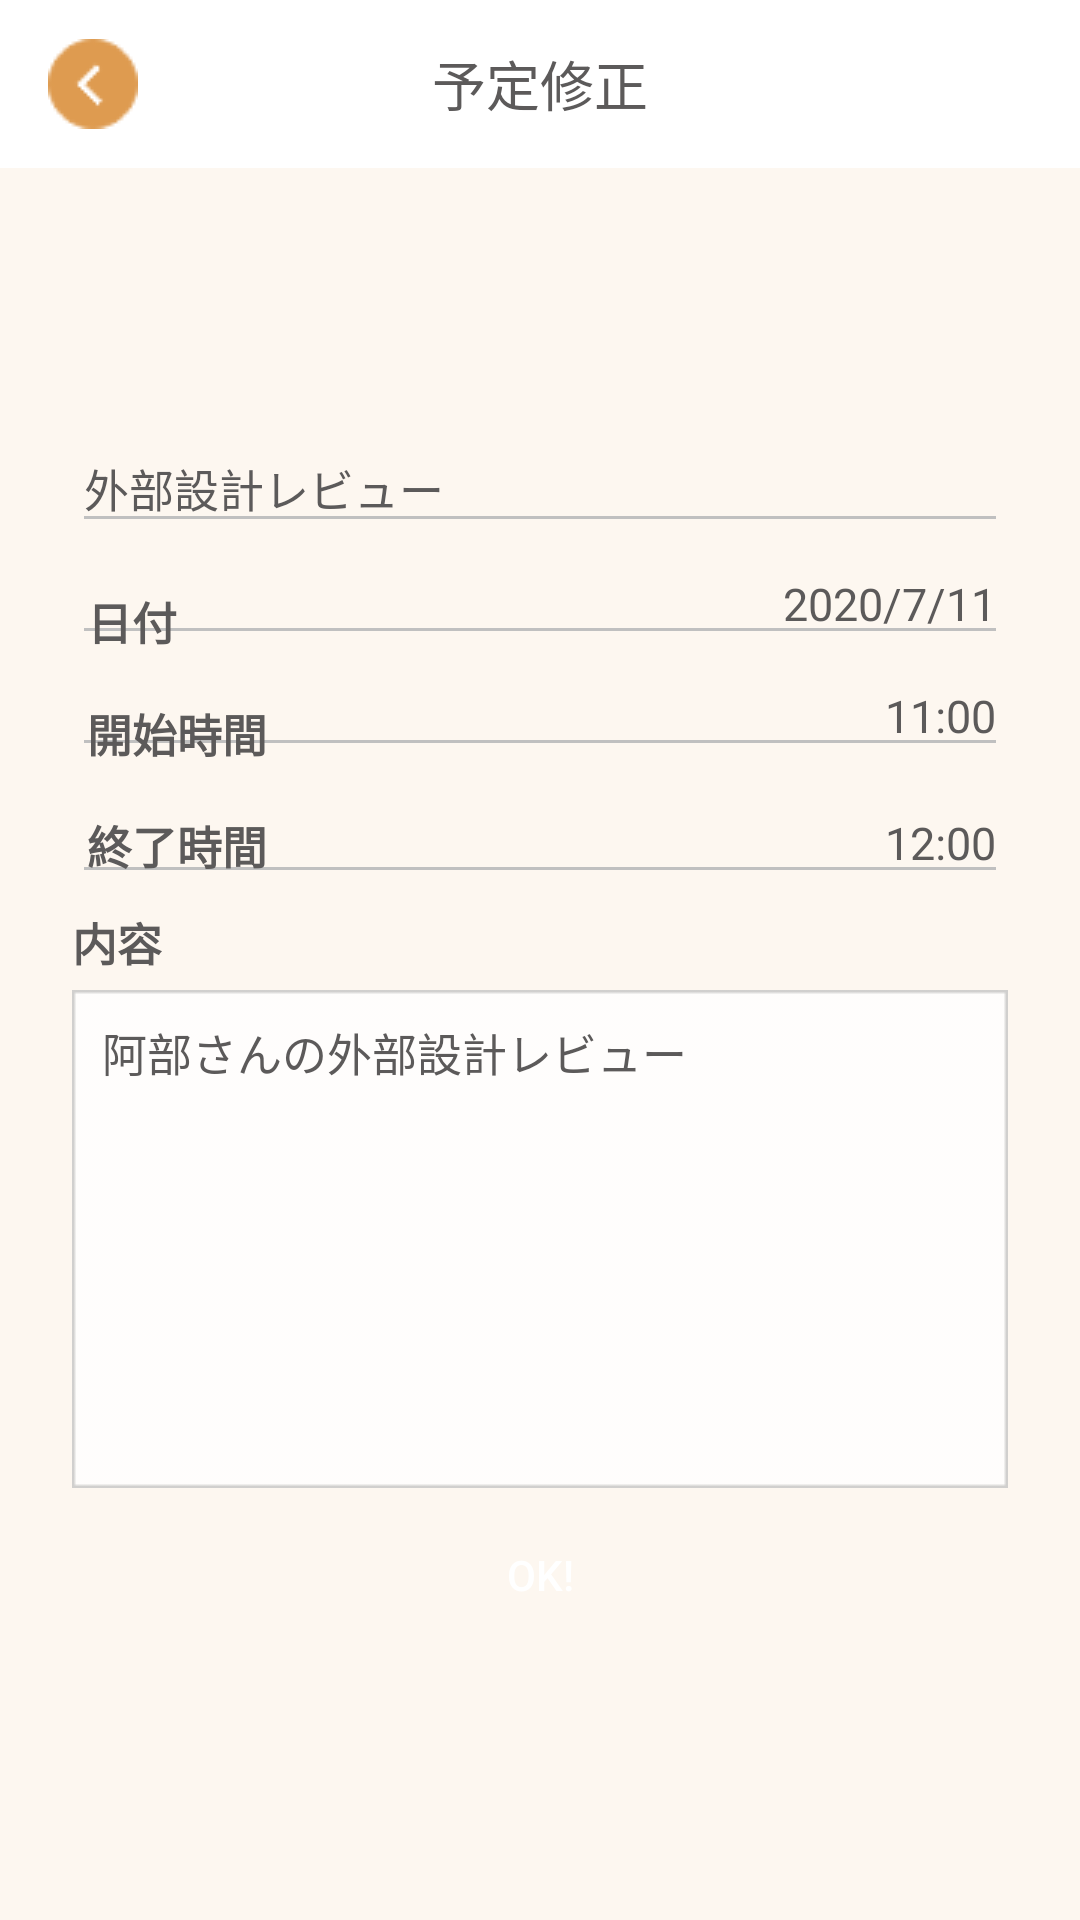

Named icons in this screenshot (1080 × 1920) and their bounding boxes, {"x1": x1, "y1": y1, "x2": x2, "y2": y2}:
戻るボタン: {"x1": 48, "y1": 39, "x2": 138, "y2": 129}
